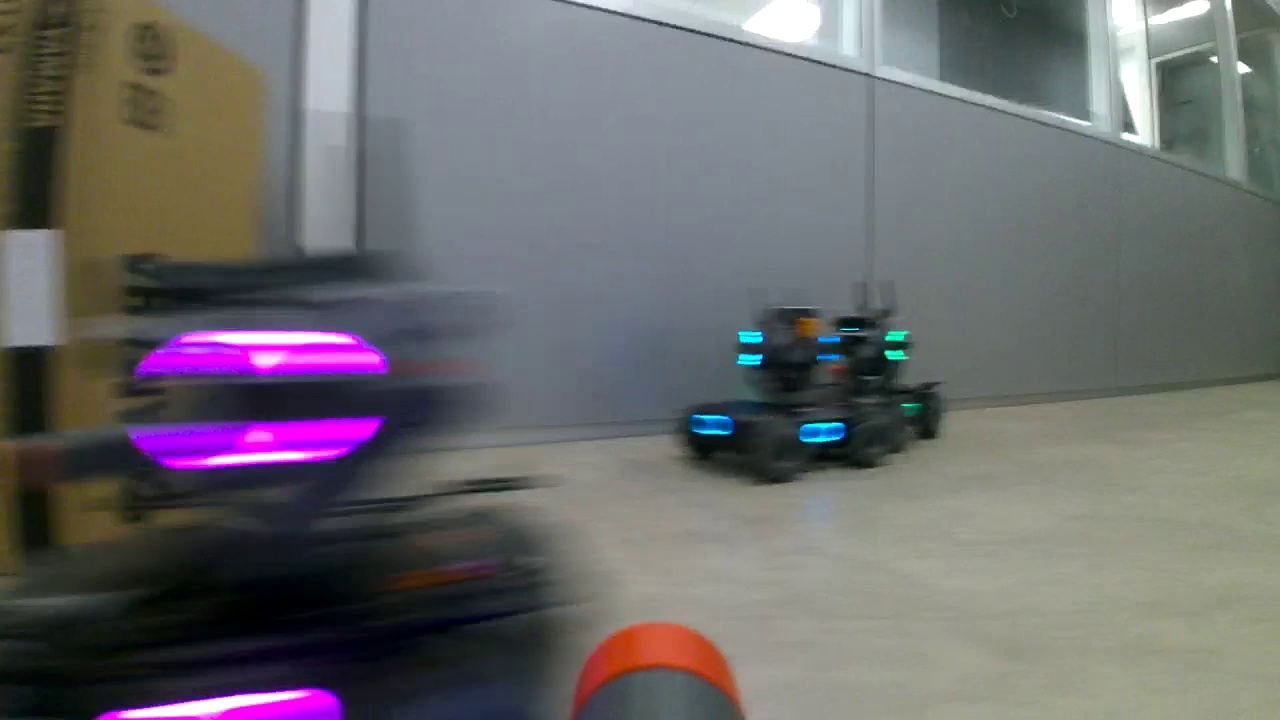robot: (674, 299, 890, 491)
